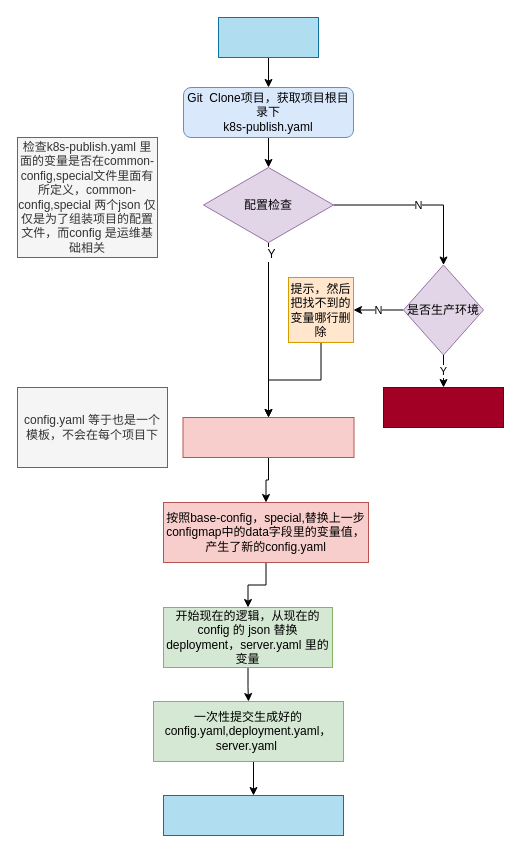
The diagram is 521 pixels wide and 853 high, and some of its shapes have lost their labels. The centre of each missing label's shape, as x and y in pixels:
"完成一次发布" goes at (253,815).
"把里面的内容，替换config.yaml 里面的${data} 变量" goes at (268,437).
"部署失败" goes at (443,407).
"阿宝项目为例" goes at (268,37).
